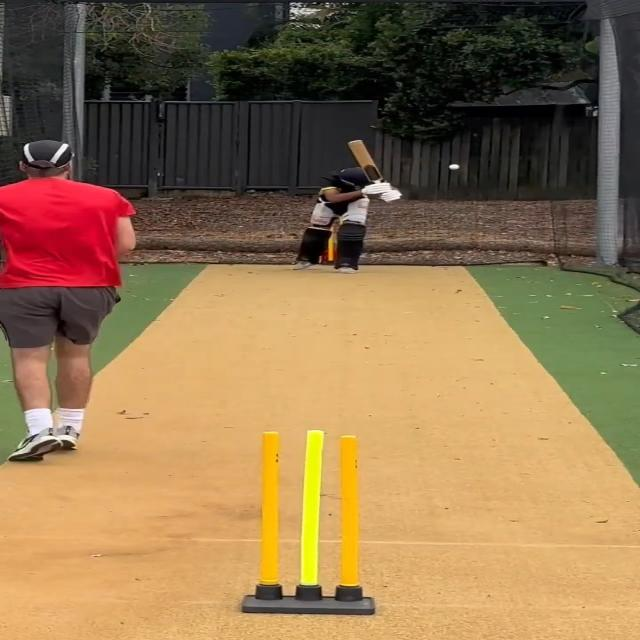ball: (447, 164, 461, 170)
stump: (242, 428, 378, 616)
